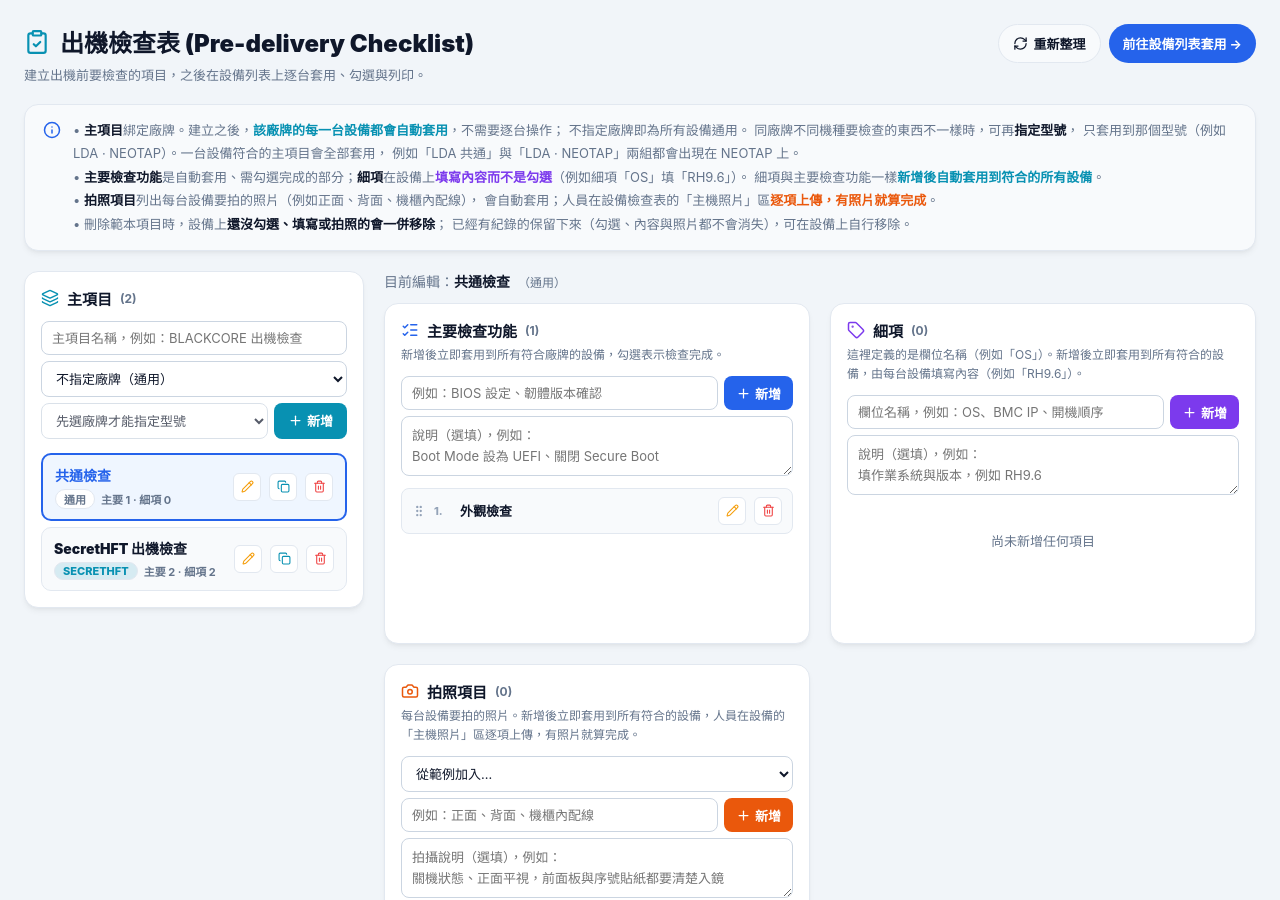
Scenario: 出機檢查表：範本維護頁 › 主項目可再指定型號 › 選了廠牌之後列出該廠牌的型號，並一併存下
Expected: the text "SecretHFT 出機檢查" is shown, [54,540,187,557]
Type "DELL R6615 出機檢查" into the field labelled "主項目名稱" at (194, 338), box [41,321,347,355]
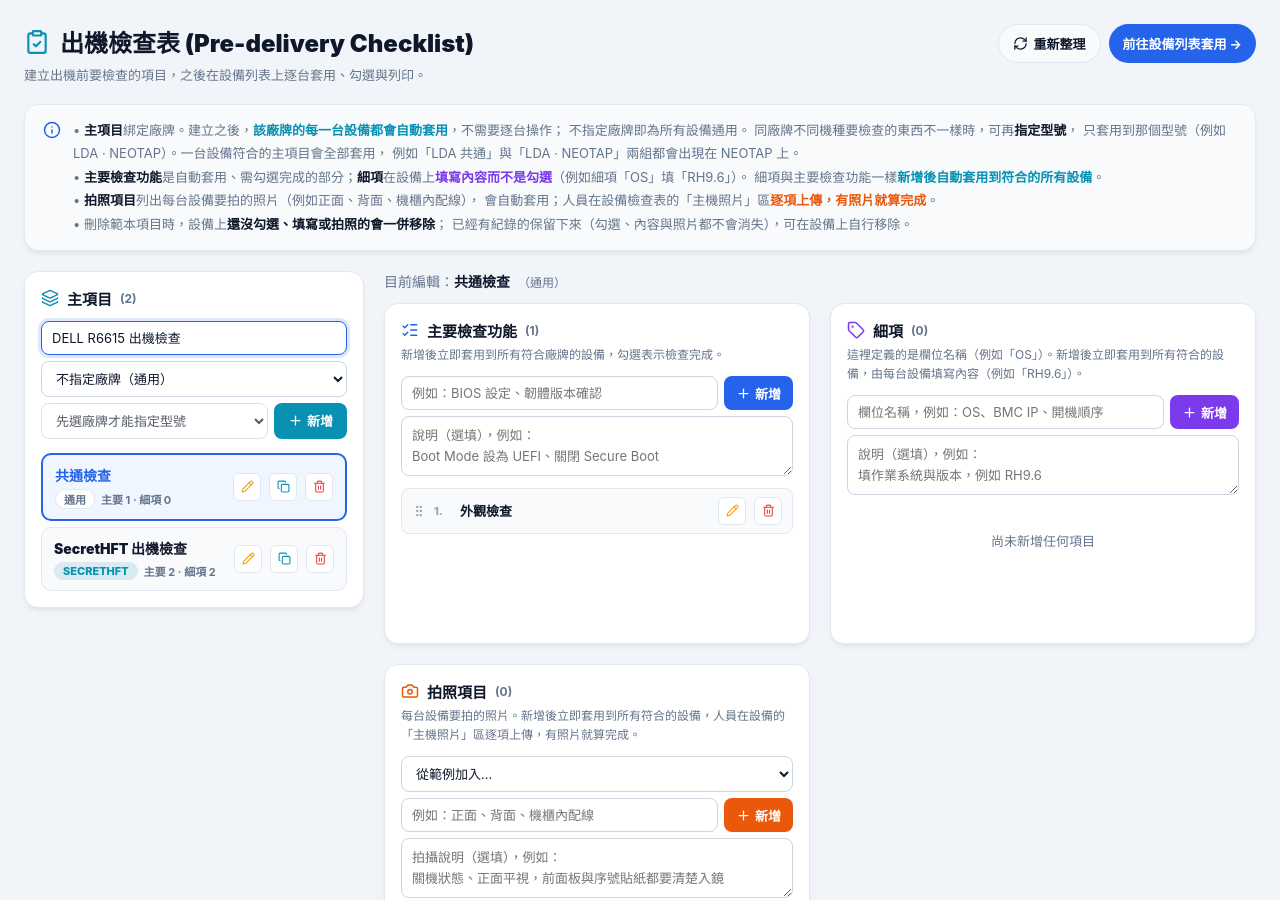
Select "DELL" in the dropdown named "適用廠牌" at (194, 379), box [41,361,347,397]
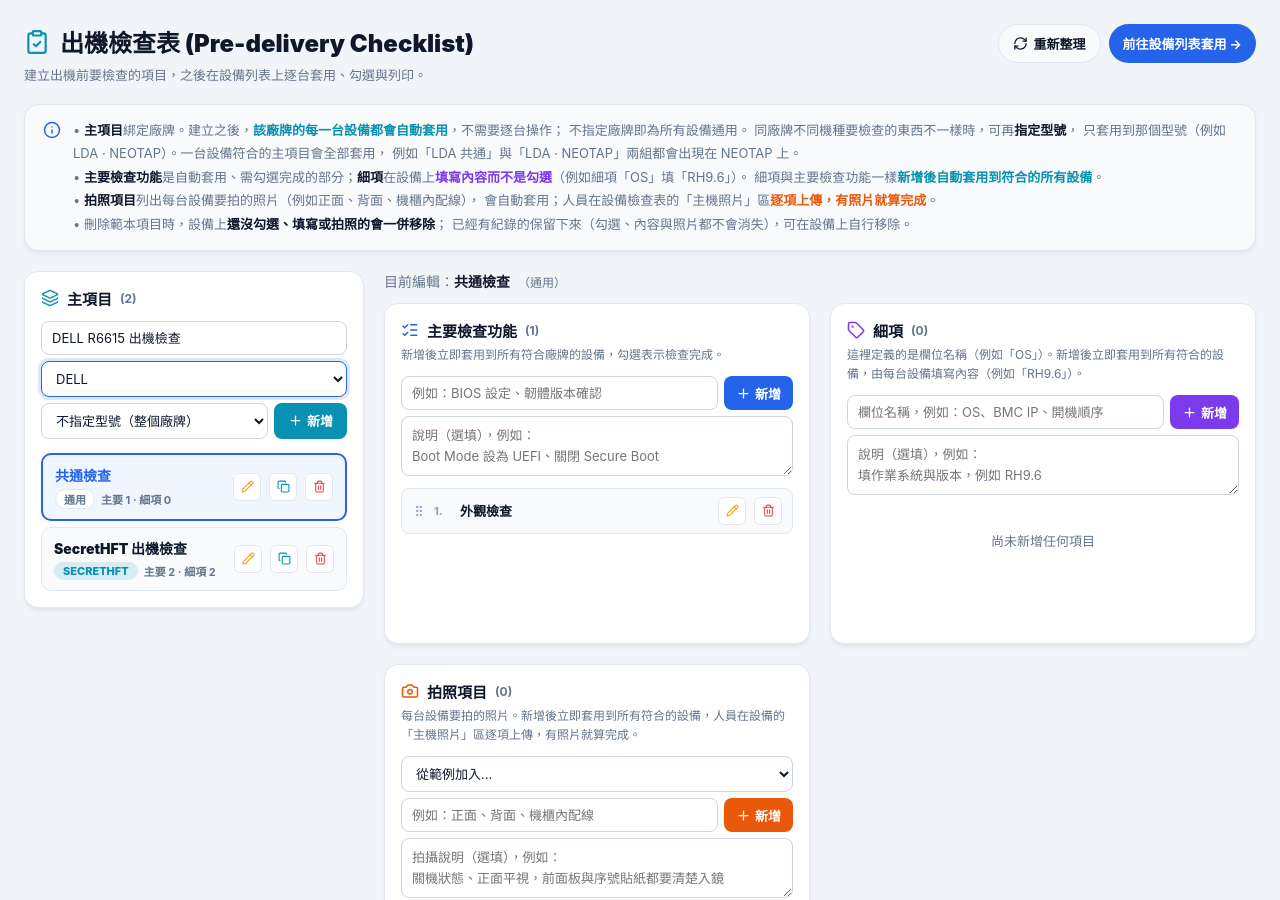
Select "R6615" in the dropdown named "適用型號" at (154, 421), box [41,403,268,439]
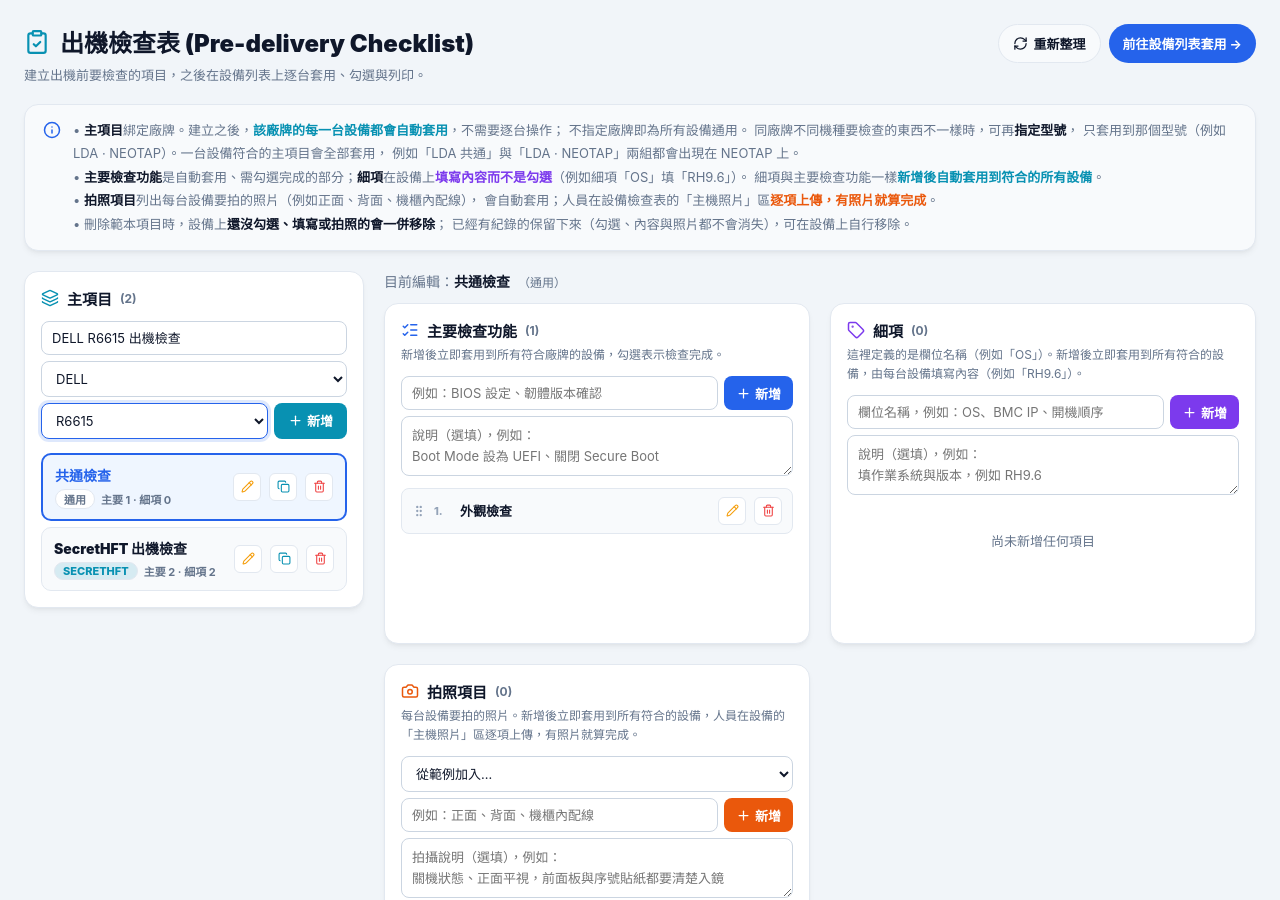
Click the 2nd button "新增" at (310, 421), box [274,403,347,439]
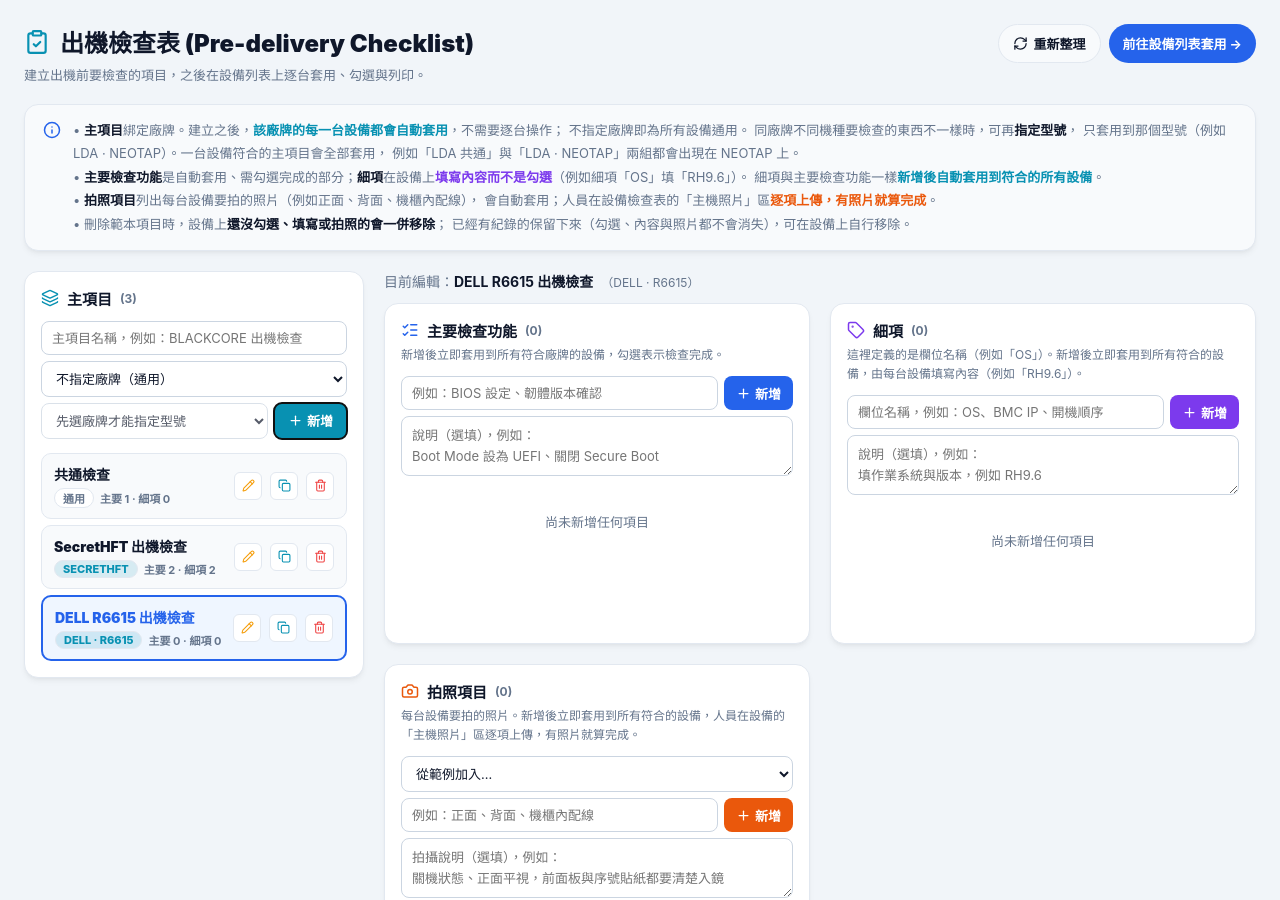
Expected: the text "DELL · R6615" is shown, [55,631,142,649]
